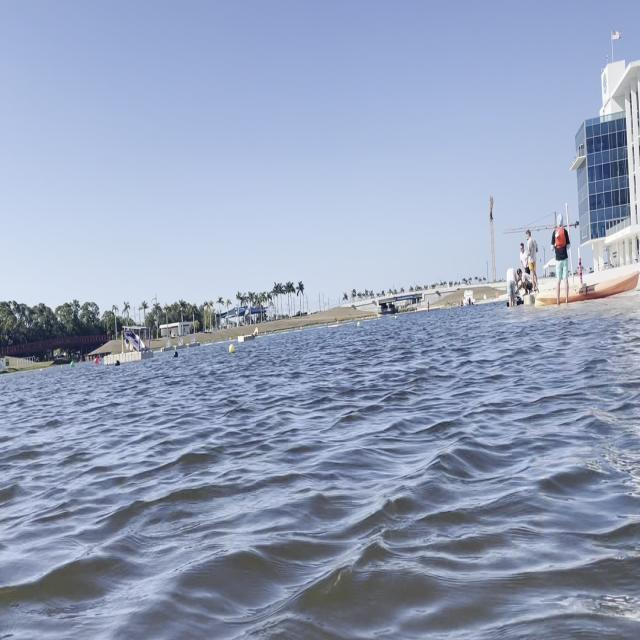buoy: (228, 343, 234, 353), (115, 359, 121, 367), (174, 350, 178, 358), (70, 360, 74, 368), (95, 358, 99, 363), (356, 321, 359, 326)
